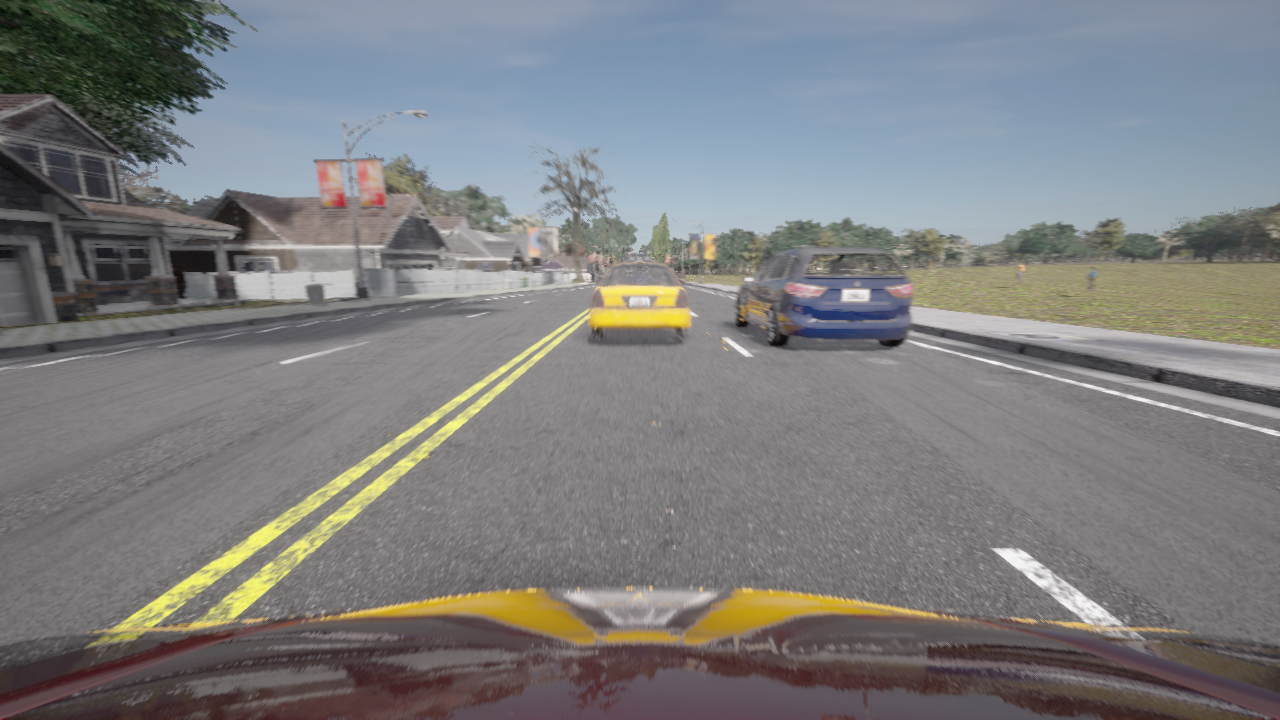cyclist: (0, 588, 1279, 719), (734, 246, 913, 346), (589, 255, 689, 338), (679, 276, 684, 286), (598, 275, 603, 279)
pedestrian: (172, 264, 186, 298), (1088, 267, 1097, 288), (1017, 261, 1025, 281)
